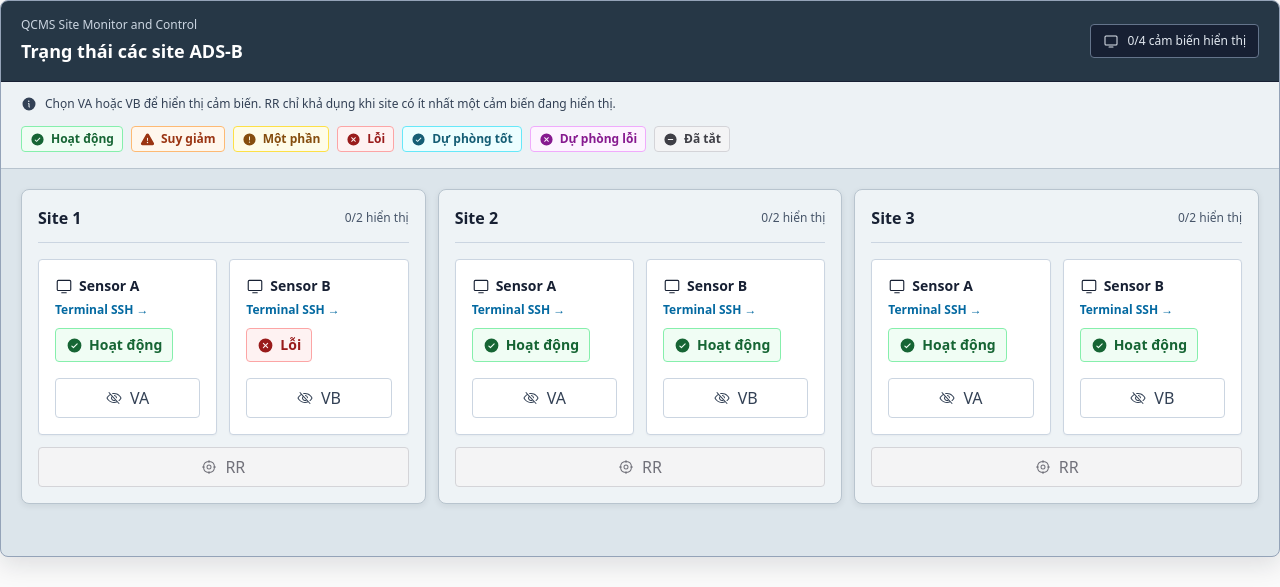
Test: SiteMonitor › enforces four visualized sensors and enables RR per site
Expected: the button with aria-label "Bật vòng cự ly cho Site 1" is disabled, [38,447,409,487]
Step 1. Click the button with aria-label "Hiển thị Sensor" → (128, 398), box [55,378,200,418]
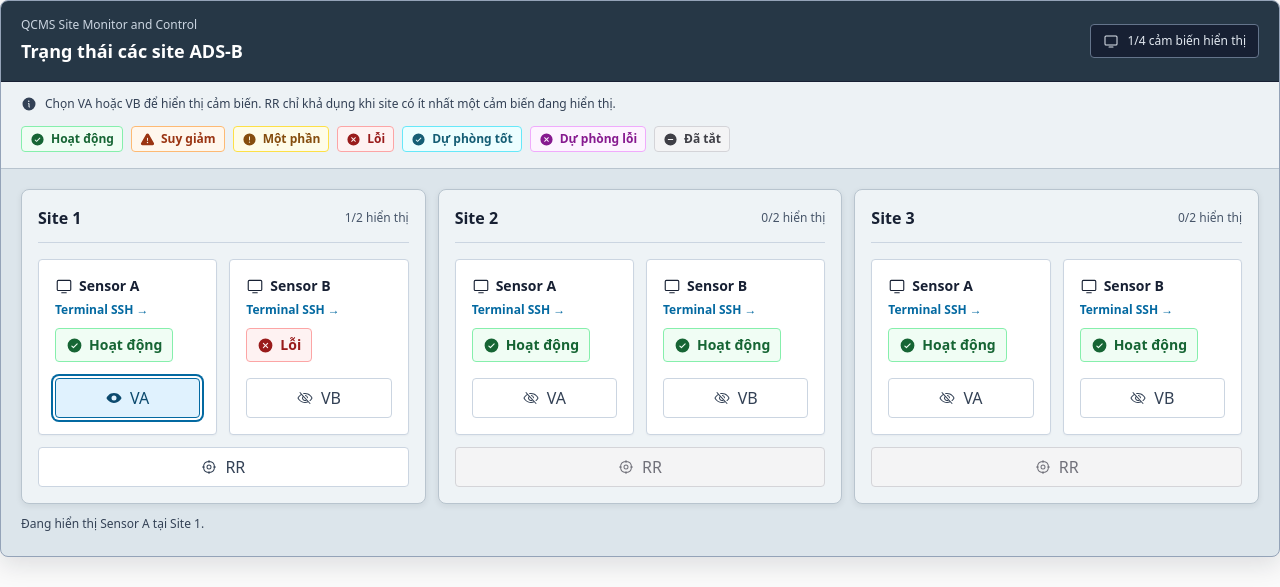
Now the button with aria-label "Bật vòng cự ly cho Site 1" is enabled
Step 2. Click the button with aria-label "Bật vòng cự ly cho Site 1" → (223, 467), box [38,447,409,487]
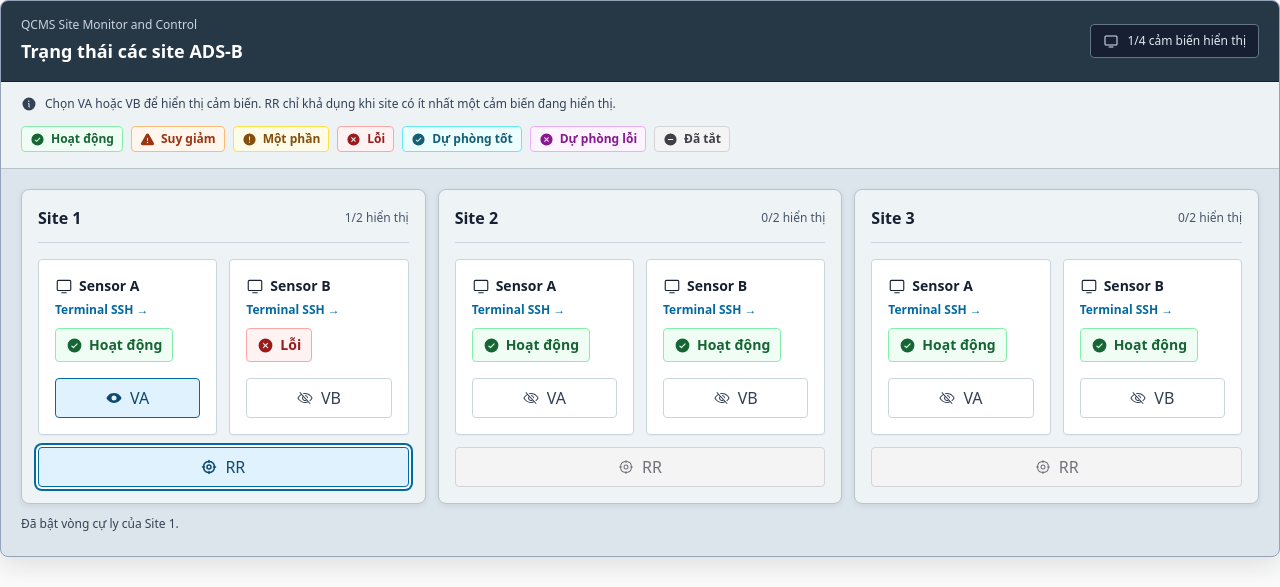
Now the button named "Bật vòng cự ly cho Site 1" is pressed, box [38,447,409,487]
Step 3. Click the button with aria-label "Hiển thị Sensor" → (319, 398), box [246,378,392,418]
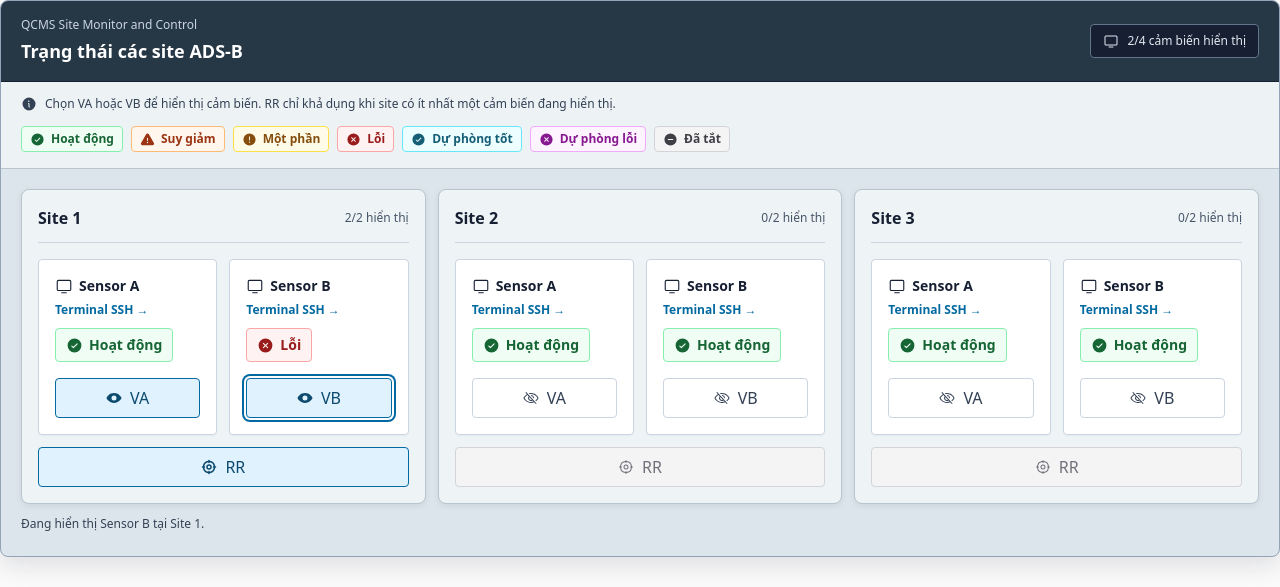
Step 4. Click the button with aria-label "Hiển thị Sensor" → (544, 398), box [472,378,617,418]
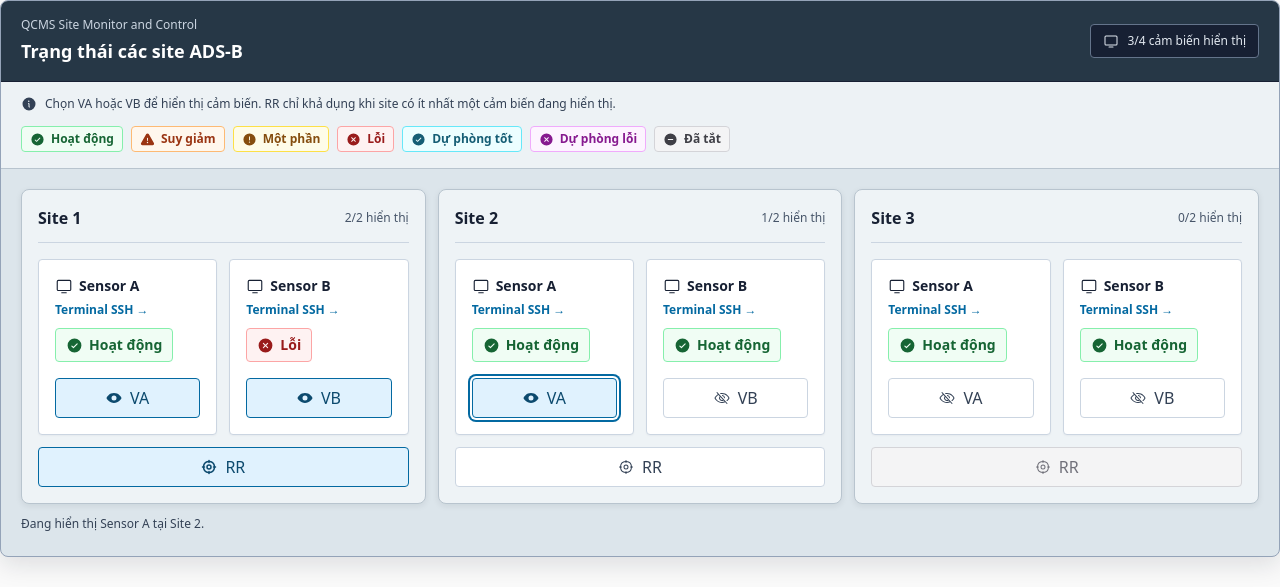
Step 5. Click the button with aria-label "Hiển thị Sensor" → (736, 398), box [663,378,808,418]
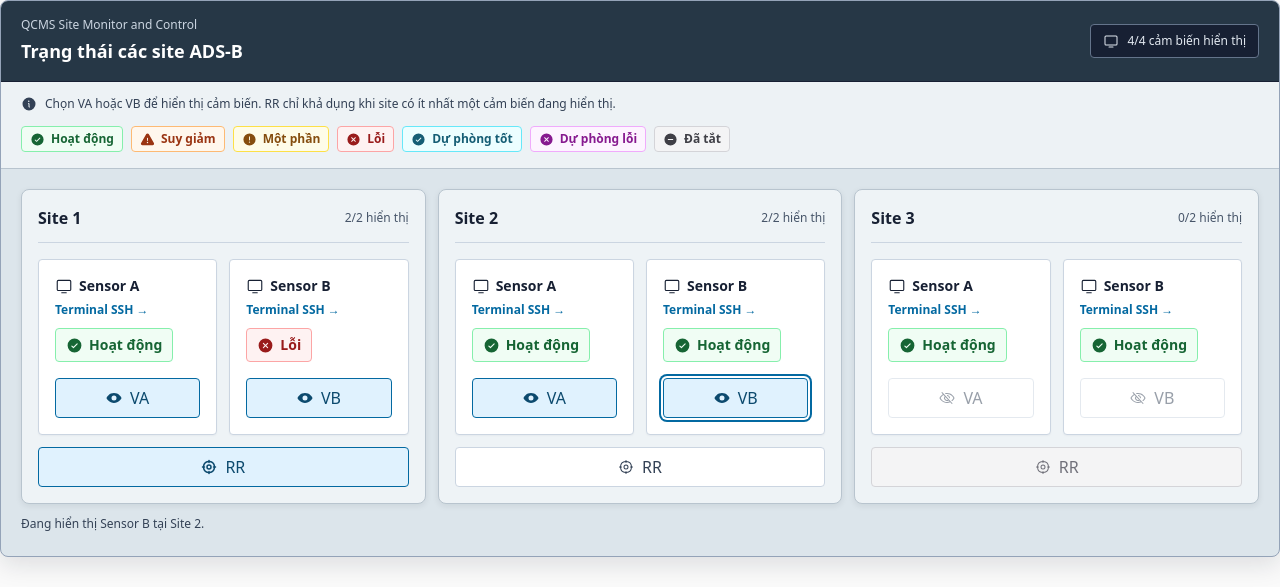
Expected: the number of buttons named "Hiển thị Sensor" is 2, [888,378,1034,418]; [1080,378,1225,418]
Now the text "4/4 cảm biến hiển thị" is shown, box [1090,24,1259,58]
